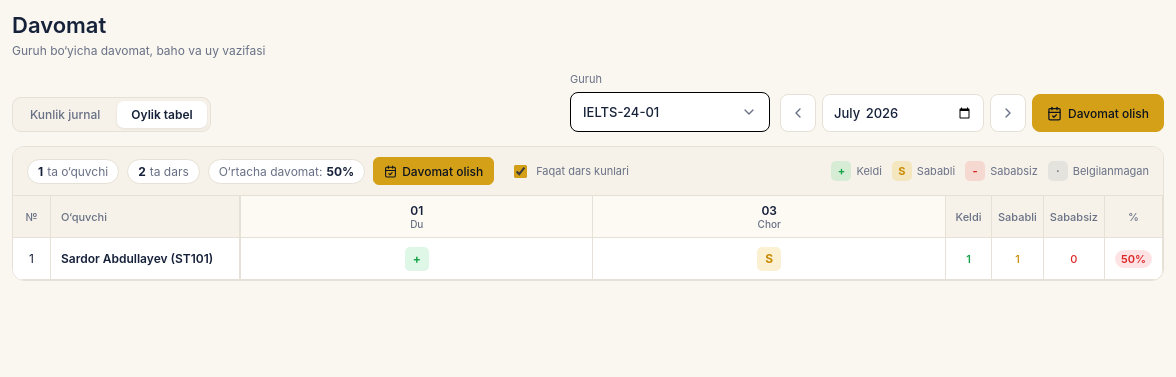
Scenario: Senior Pro Client Requirements Verification › Requirement 1: Davomatda umumiy oylik tabel va tezkor davomat olish › clicking on a date column in the monthly sheet switches to daily register for that date
Expected: the text "Sardor Abdullayev (ST101)" is shown, [61, 251, 233, 266]
What coordinates should you click on to do the following:
click the cell titled "Sardor Abdullayev — 2026-07-01"
I would click on:
 (417, 259)
Its box is [241, 238, 594, 280].
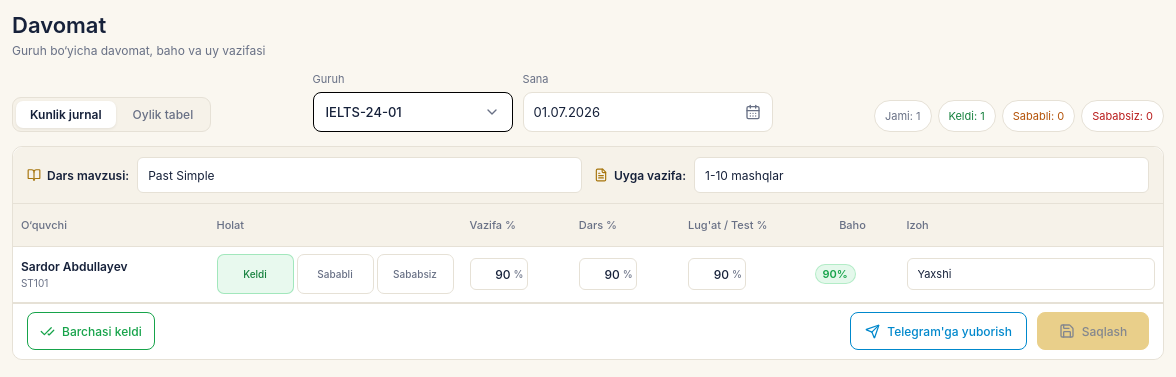
Now the field labelled "Dars mavzusi:" is shown, box [137, 157, 582, 193]
Now the field labelled "Uyga vazifa:" is shown, box [694, 157, 1149, 193]
